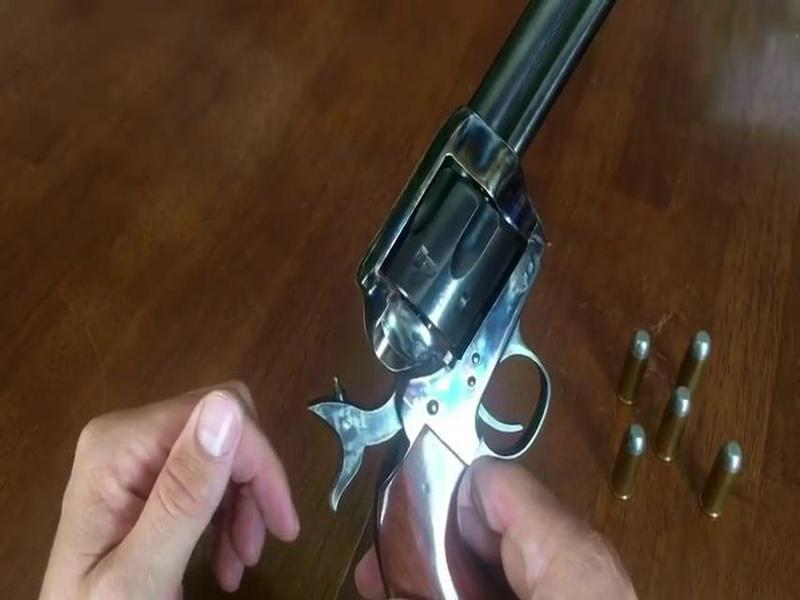Revolver: (303, 2, 632, 561)
